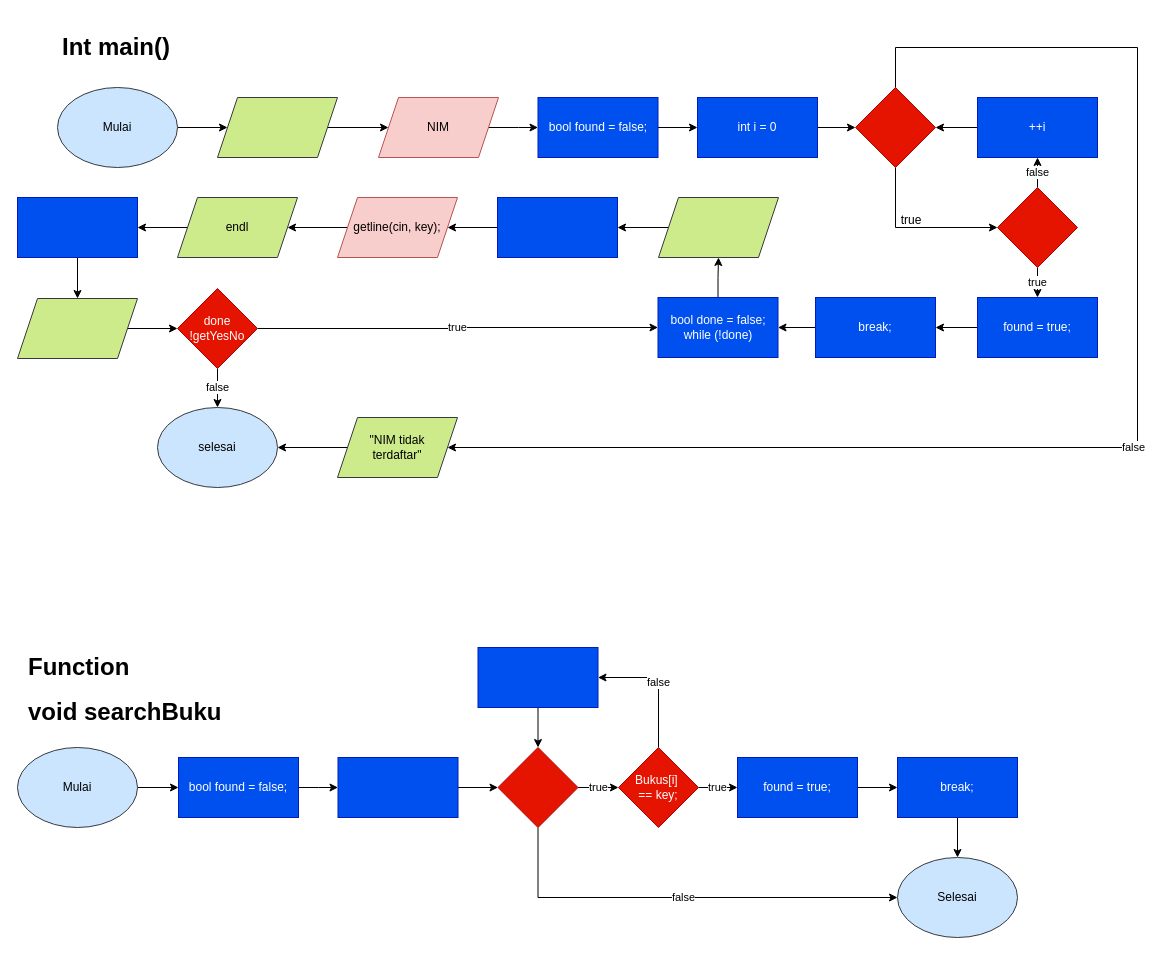
Some shapes in this 1163 by 955 pixel diagram are drawn without their labels. Each missing label, with the centre of its shape:
"Enter NIM": [277,127]
"Nama Buku": [718,227]
"search another?": [77,328]
cin.ignore();: [557,227]
i < 29: [895,127]
i < n: [537,787]
i = o: [397,787]
i++: [537,677]
nim = a[i]: [1037,227]
searchBuku(Bukus, key);: [77,227]
